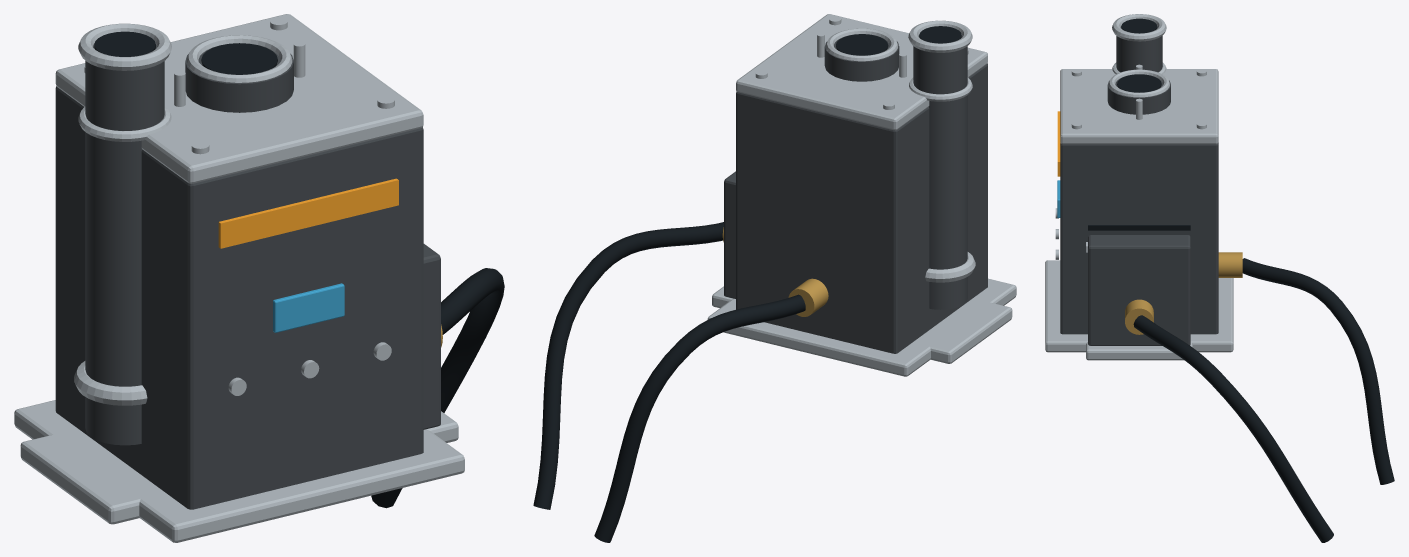
File: pyro-fixtures.glb
3 renders of one model, left to right at view 1: azimuth 30°, elevation 25°; view 2: azimuth 150°, elevation 25°; view 3: azimuth 270°, elevation 25°, orthographic. The views are drawn at different scales.
Parts seen in each view (by area): view 1: Flame cabinet, Burner deck, CO2 vertical barrel, Flame mounting plate, CO2 mounting plate, CO2 supply hose, Flame identification stripe, Burner cup, CO2 valve enclosure, Control screen, CO2 nozzle rim, Burner rim (+4 smaller); view 2: Flame cabinet, Burner deck, CO2 vertical barrel, CO2 supply hose, LPG hose, Flame mounting plate, CO2 mounting plate, Burner cup, CO2 valve enclosure, CO2 nozzle rim, Burner rim, Burner opening (+3 smaller); view 3: Flame cabinet, CO2 valve enclosure, Burner deck, CO2 supply hose, LPG hose, Flame mounting plate, CO2 vertical barrel, CO2 mounting plate, Burner cup, CO2 nozzle rim, Burner rim, Burner opening (+4 smaller).
Part boxes in pixels (box(x1,y1,x2,y2)): Flame cabinet: box(55, 86, 423, 509); Burner deck: box(55, 14, 423, 183); CO2 vertical barrel: box(85, 44, 164, 445); Flame mounting plate: box(14, 400, 464, 542); CO2 mounting plate: box(20, 411, 458, 524); CO2 supply hose: box(371, 268, 504, 508); Flame identification stripe: box(218, 178, 398, 248); Burner cup: box(185, 49, 293, 112); CO2 valve enclosure: box(423, 244, 440, 429); Control screen: box(273, 283, 344, 332); CO2 nozzle rim: box(78, 23, 171, 70); Burner rim: box(187, 35, 292, 83); Flame cabinet: box(736, 63, 987, 353); Burner deck: box(736, 14, 987, 130); CO2 vertical barrel: box(913, 35, 967, 309); CO2 supply hose: box(533, 222, 723, 509); LPG hose: box(594, 294, 805, 542); Flame mounting plate: box(707, 278, 1016, 376); CO2 mounting plate: box(712, 286, 1012, 363); Burner cup: box(824, 38, 899, 81); CO2 valve enclosure: box(724, 171, 735, 298); CO2 nozzle rim: box(908, 20, 972, 52); Burner rim: box(826, 28, 898, 61); Burner opening: box(836, 34, 888, 55); Flame cabinet: box(1060, 143, 1218, 334); CO2 valve enclosure: box(1088, 235, 1190, 345); Burner deck: box(1060, 69, 1218, 144); CO2 supply hose: box(1133, 315, 1333, 542); LPG hose: box(1242, 258, 1394, 484); Flame mounting plate: box(1045, 260, 1233, 352); CO2 vertical barrel: box(1116, 26, 1162, 72); CO2 mounting plate: box(1086, 342, 1192, 360); Burner cup: box(1107, 77, 1170, 114); CO2 nozzle rim: box(1112, 14, 1166, 41); Burner rim: box(1108, 69, 1169, 97); Burner opening: box(1117, 74, 1161, 92).
Bounding box in the file's own units: 0.4119 × 0.5136 × 0.4083.
